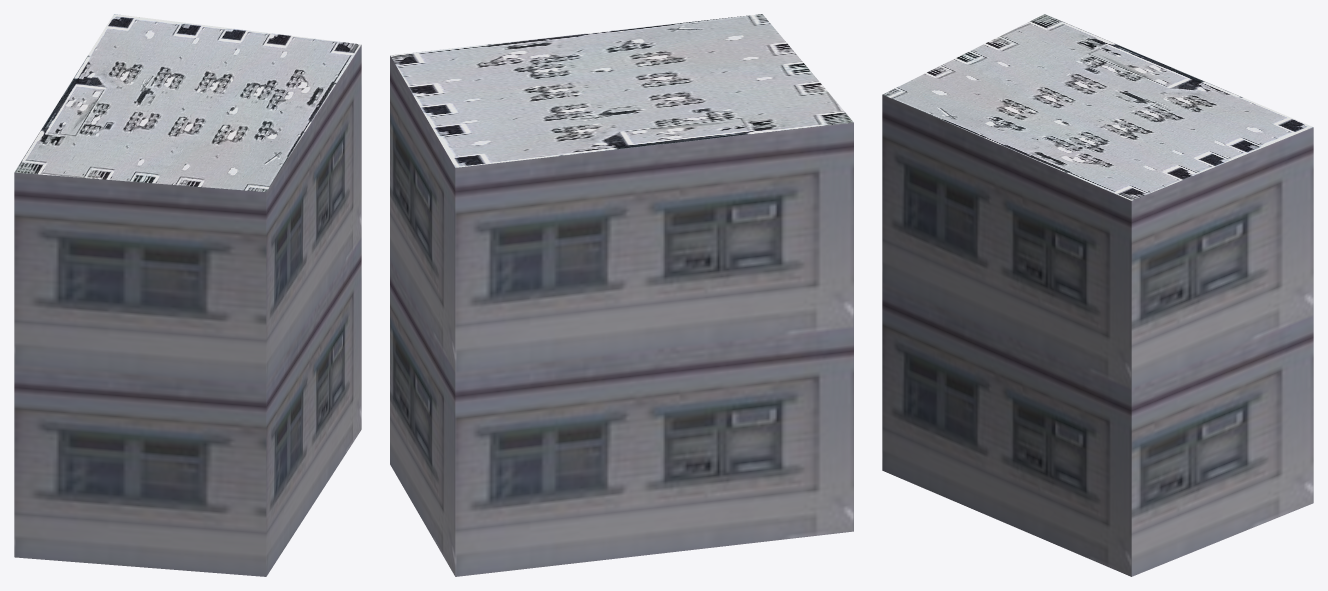
Rendered from ResTex__4735.fbx.
The picture shows the model from 3 angles, left to right: view 1: azimuth 30°, elevation 25°; view 2: azimuth 150°, elevation 25°; view 3: azimuth 270°, elevation 25°; orthographic projection. The views are drawn at different scales.
Visible parts, largest first — view 1: CityEngineMaterial_1_m, CityEngineMaterial_8_m; view 2: CityEngineMaterial_1_m, CityEngineMaterial_8_m; view 3: CityEngineMaterial_1_m, CityEngineMaterial_8_m.
Boxes of the visible parts, x1,y1,x2,y2 form: CityEngineMaterial_1_m: (14, 45, 361, 576); CityEngineMaterial_8_m: (14, 14, 361, 191); CityEngineMaterial_1_m: (390, 56, 853, 576); CityEngineMaterial_8_m: (390, 14, 853, 167); CityEngineMaterial_1_m: (882, 94, 1313, 576); CityEngineMaterial_8_m: (883, 14, 1312, 200).
Bounding box in the file's own units: 6.4 × 6 × 6.23.
Materials: 2 (2 with a texture image).
